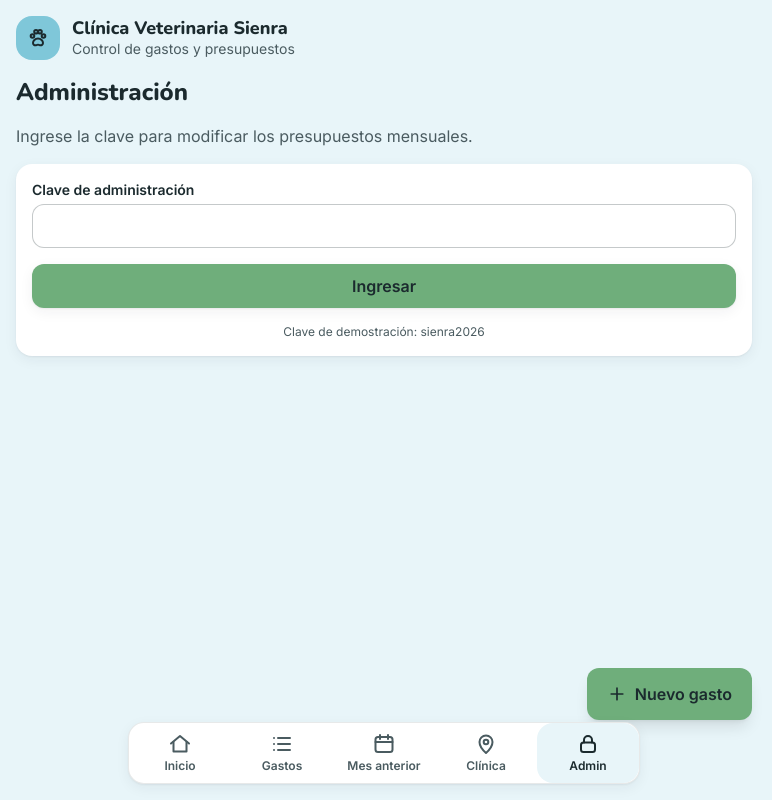
Budget editor › rejects the budget 0
Type "sienra2026" into the password field labelled "Clave de administración".
click(384, 226); type("sienra2026")  # box [32,204,736,248]
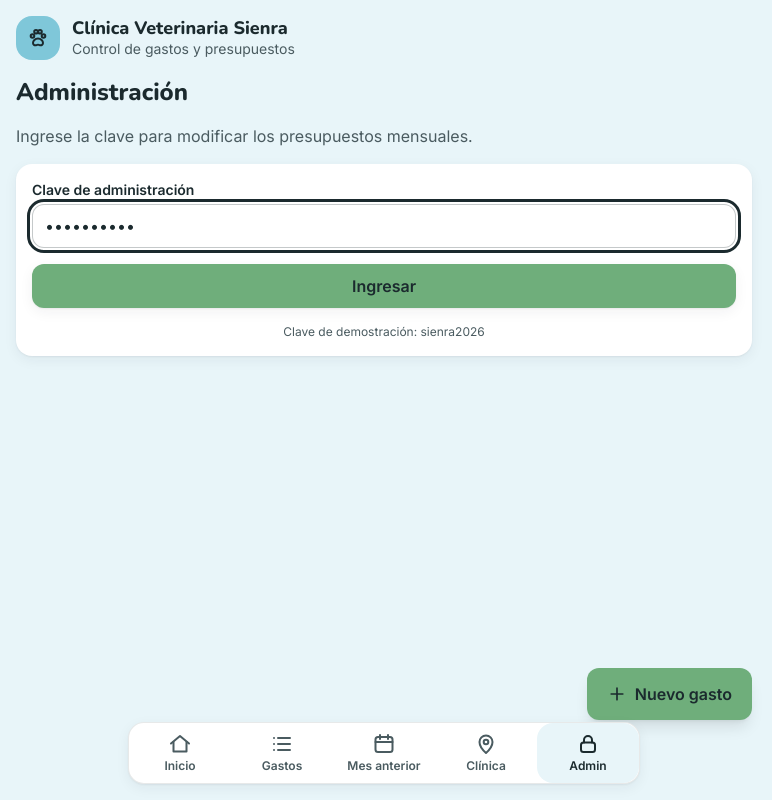
Click the button "Ingresar".
click(384, 286)  # box [32,264,736,308]
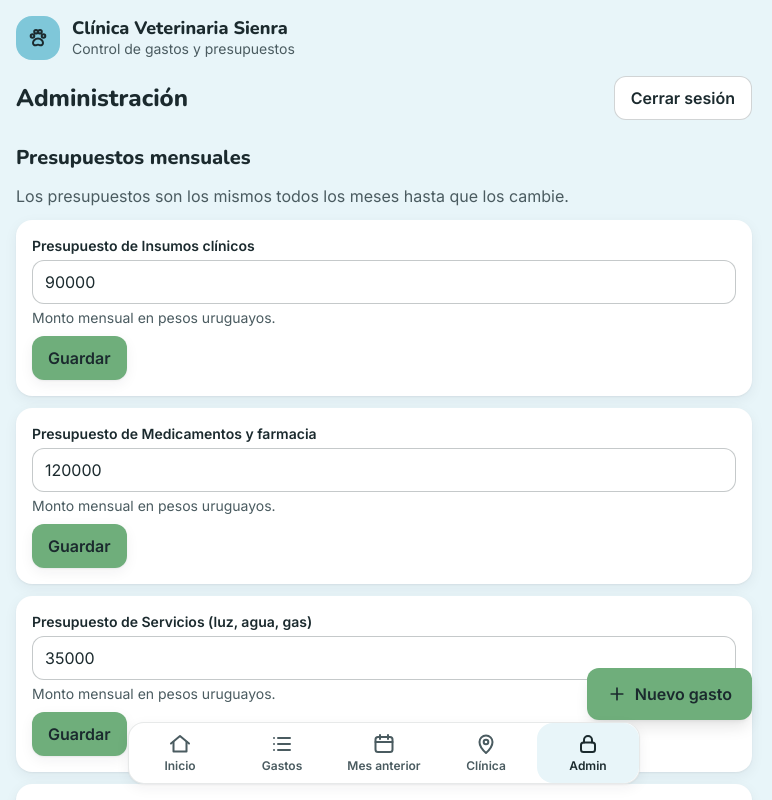
Replace the text in the field labelled "Presupuesto de Servicios (luz, agua, gas)" with "0" at (384, 658), box [32,636,736,680]
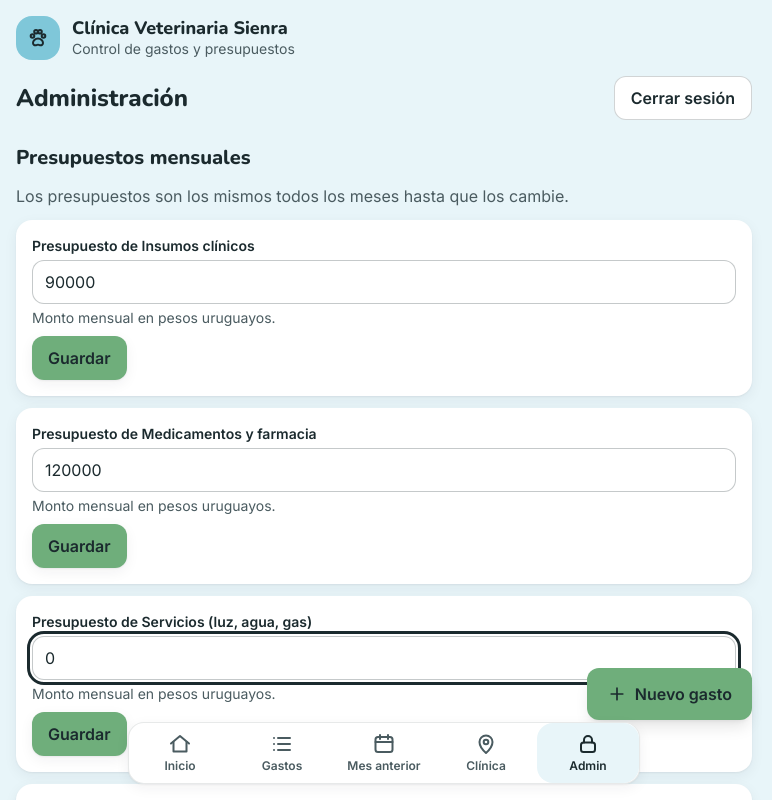
Click the button with aria-label "Guardar presupuesto de Servicios (luz, agua, gas)".
click(79, 734)  # box [32,712,126,756]
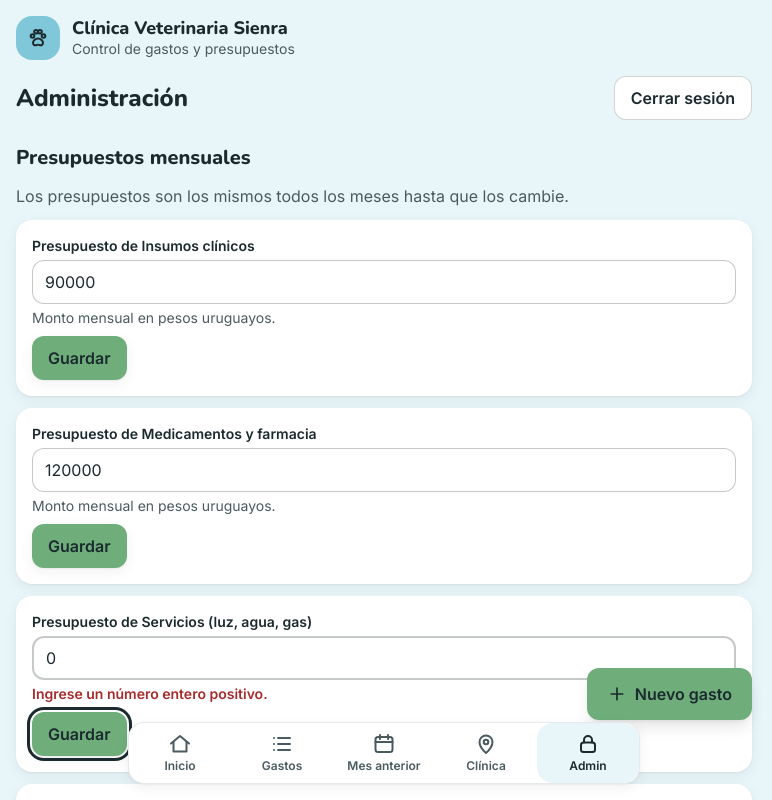
Expected: the text "Ingrese un número entero positivo." is shown, [32,685,268,702]
